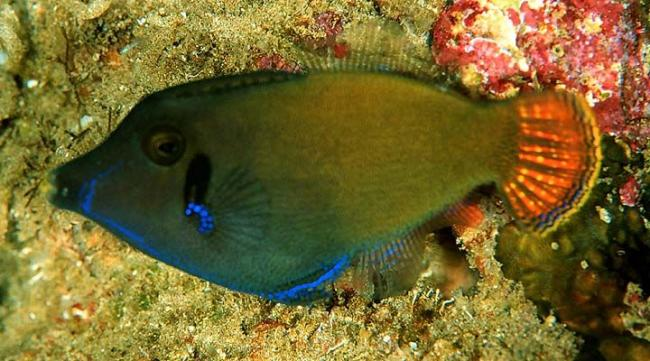fish: (46, 68, 601, 304)
